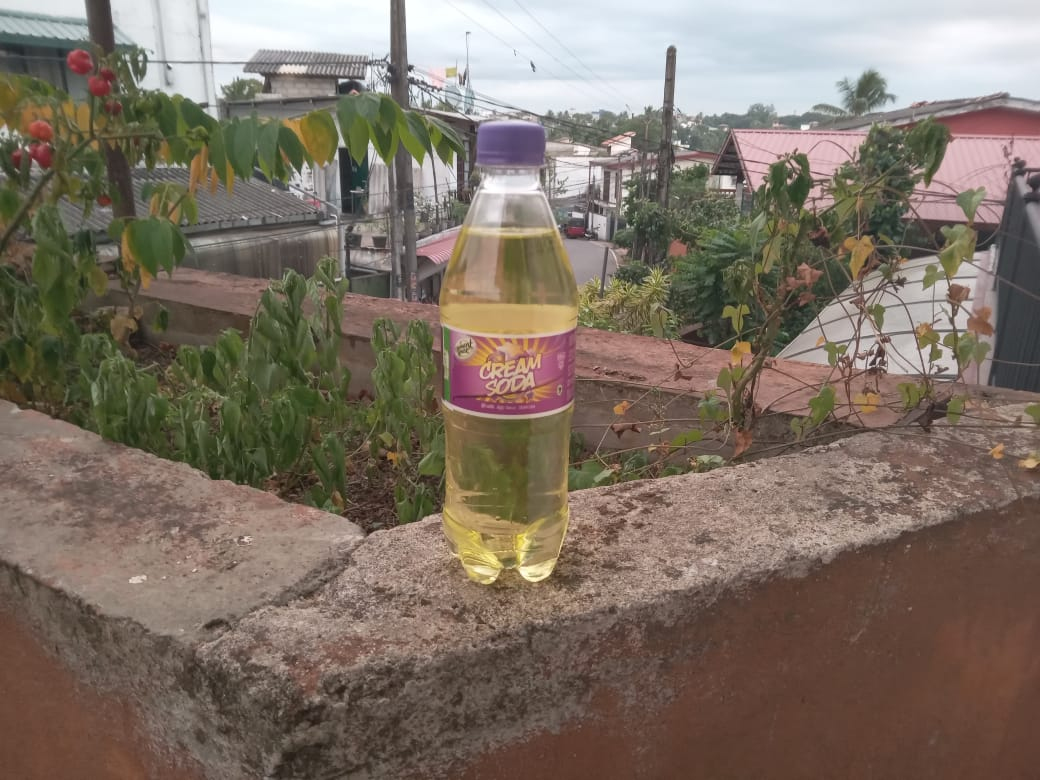S: (438, 119, 577, 582)
